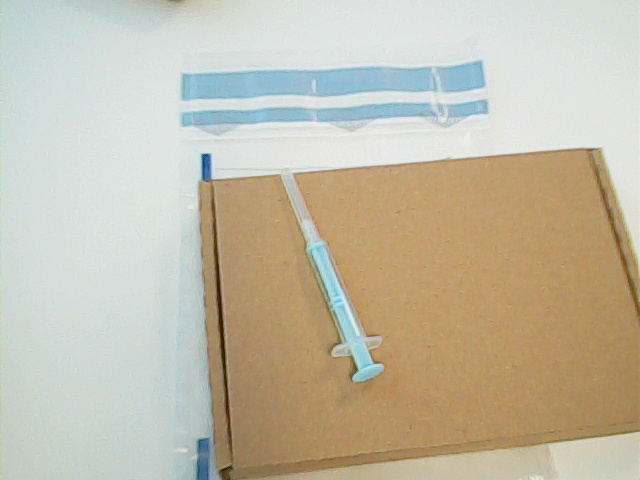syringe: (273, 163, 388, 386)
